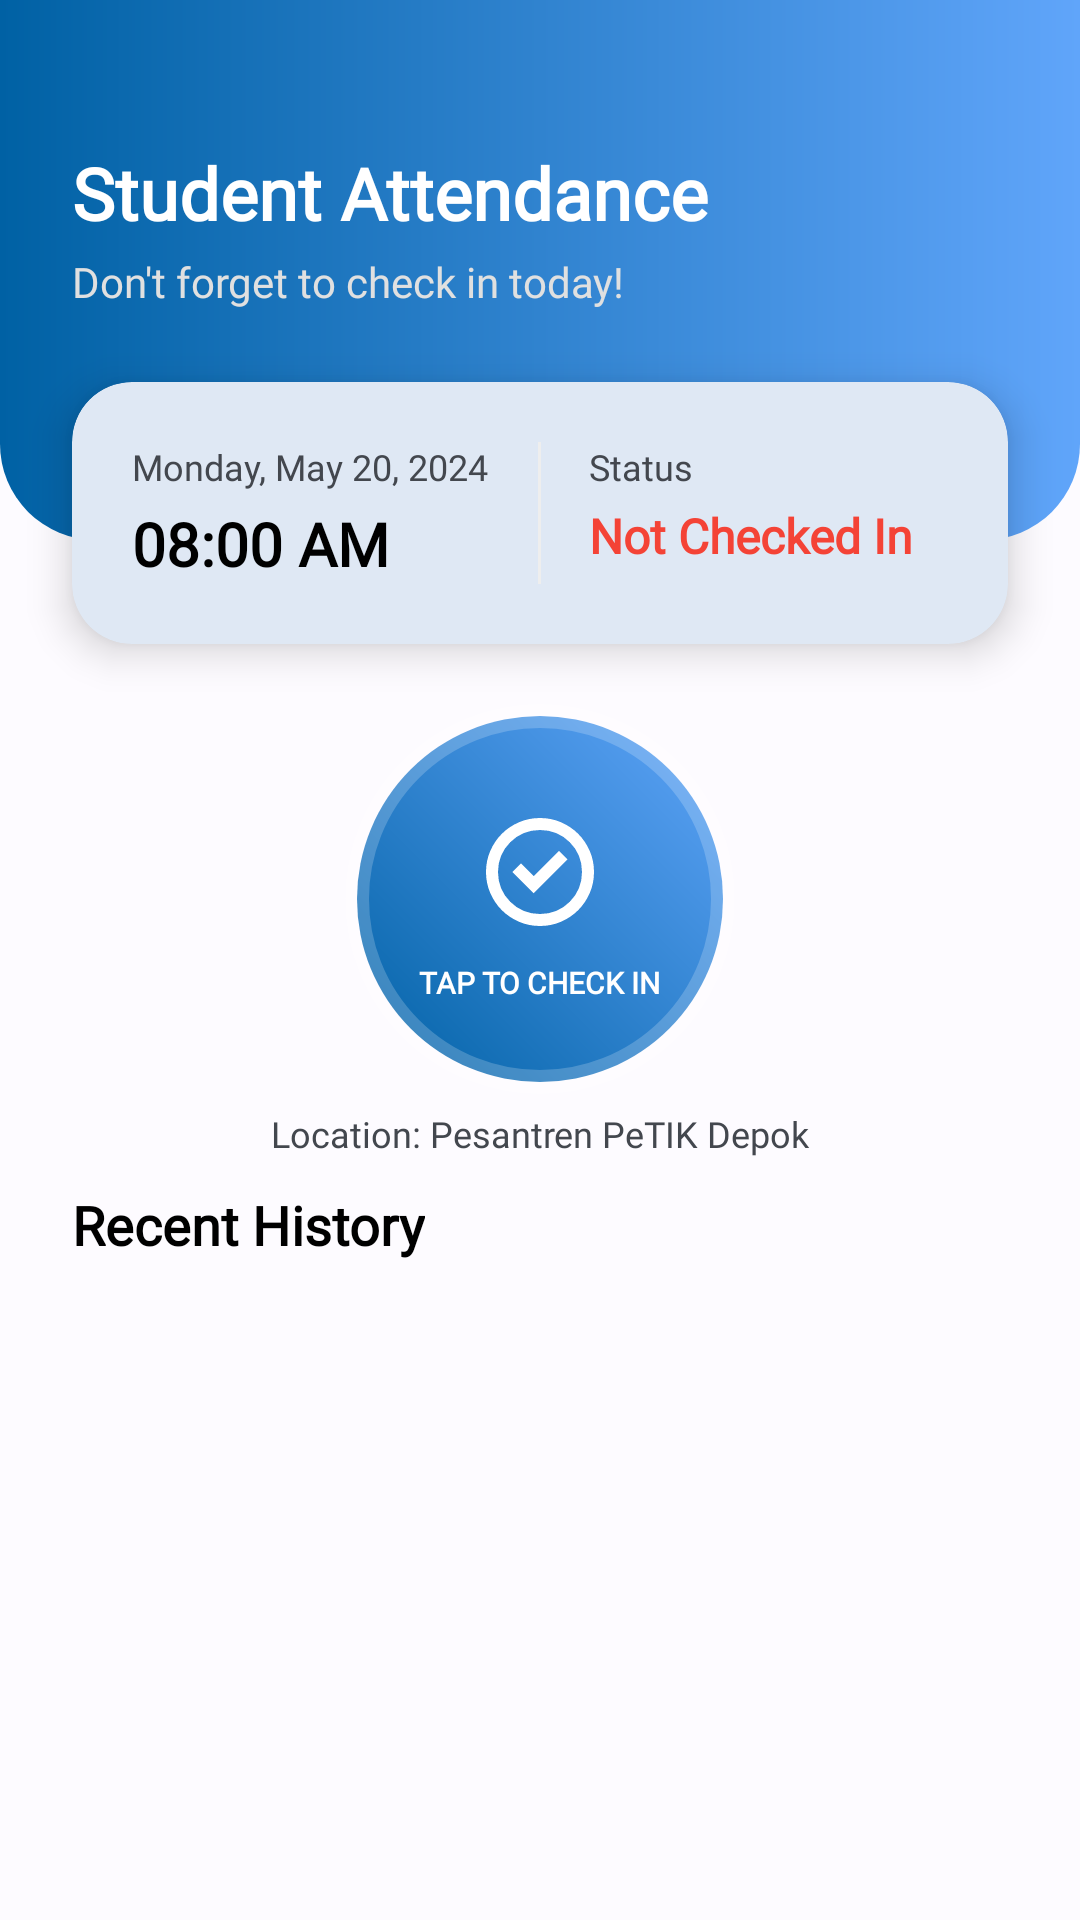

Named icons in this screenshot (1080 × 1920) and their bounding boxes, (x1, y1, x2, y2):
attendance: (468, 794, 612, 938)
